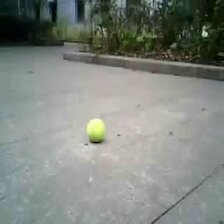tennis: (86, 119, 104, 143)
